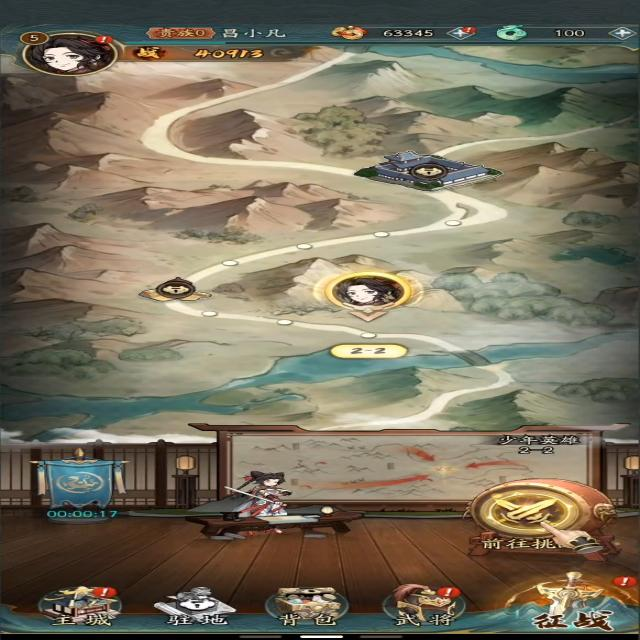hint-reddot: (87, 34, 122, 48), (609, 574, 640, 589), (87, 586, 118, 601), (429, 585, 457, 599), (455, 22, 482, 36)
navigation-bag: (258, 580, 355, 630)
navigation-fight: (501, 571, 631, 635)
navigation-hero: (375, 580, 474, 630)
navigation-main: (22, 582, 130, 630)
navigation-role: (6, 26, 136, 80)
navigation-station-off: (144, 590, 248, 630)
operation-challenge: (466, 475, 610, 554)
